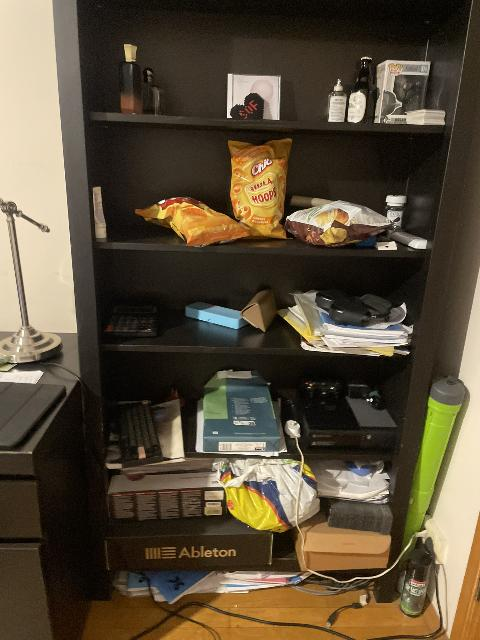Chio Cascaval 125g: (134, 196, 247, 246)
Chio Hula Hoops Cheese 70g: (228, 137, 293, 239)
Lays Beef Grilled Ribs 125g: (282, 198, 386, 247)
